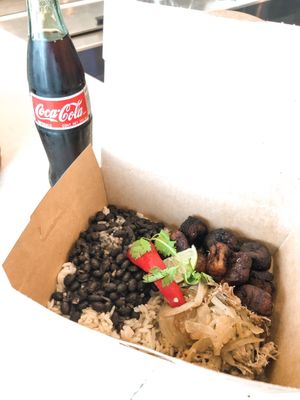burger: (25, 0, 96, 188)
